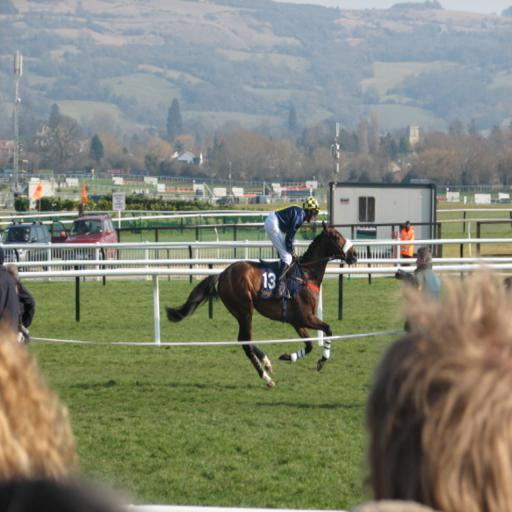horse: (163, 218, 361, 388)
